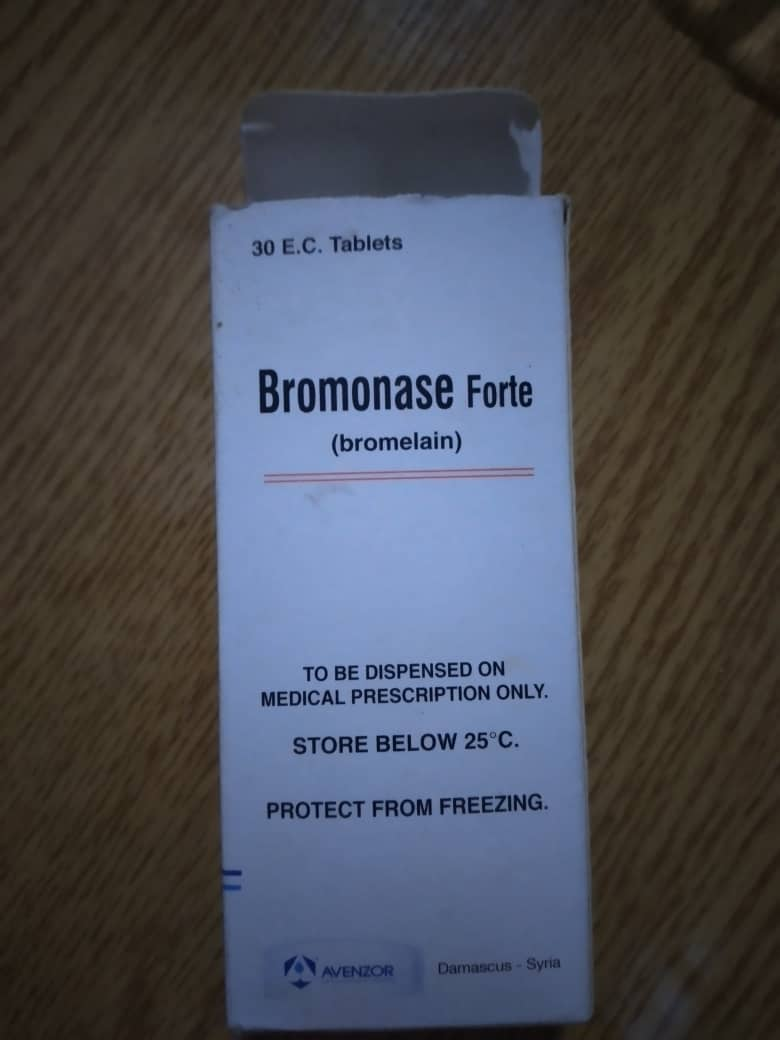Medicine: (193, 167, 597, 1040)
